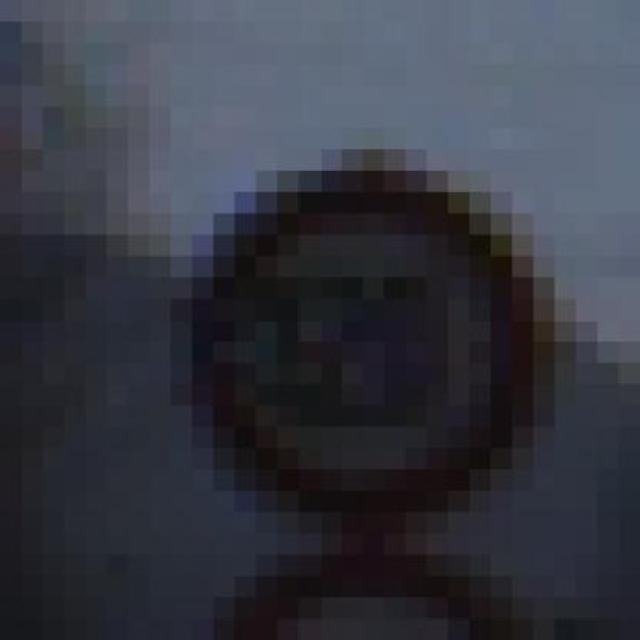forb_speed_over_120: (202, 173, 535, 516)
